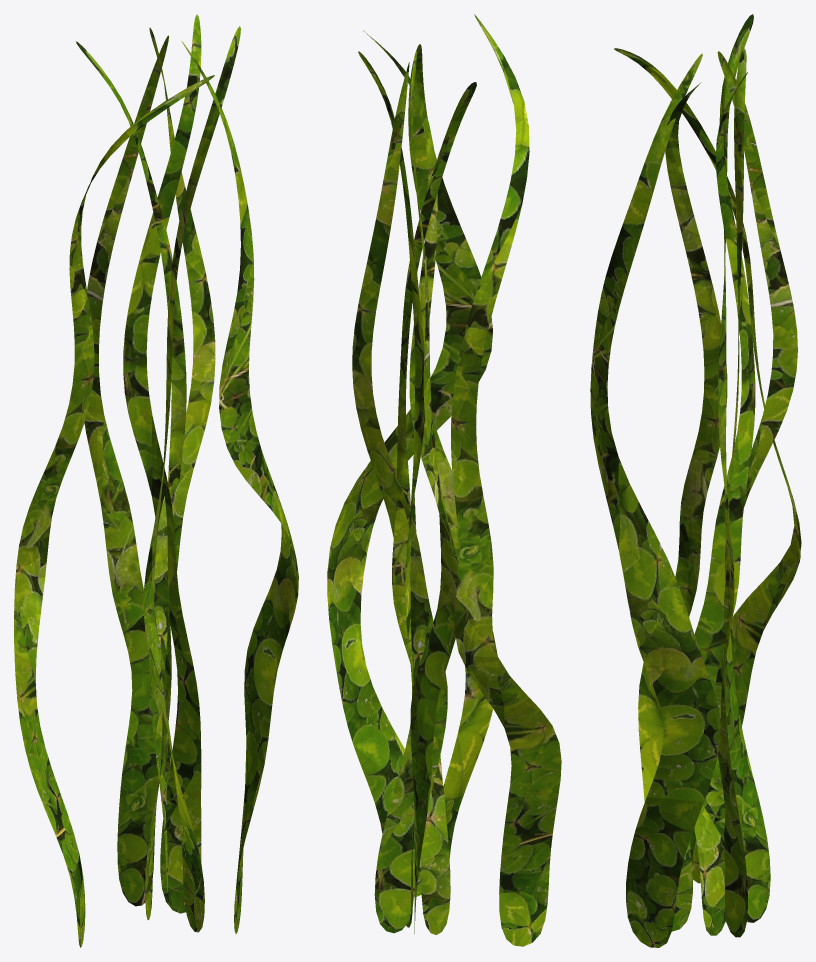
File: algae 3.glb
The picture shows the model from 3 angles, left to right: view 1: azimuth 30°, elevation 25°; view 2: azimuth 150°, elevation 25°; view 3: azimuth 270°, elevation 25°; orthographic projection.
Visible parts, largest first — view 1: algae3; view 2: algae3; view 3: algae3.
Part boxes in pixels (box(x1,y1,x2,y2)): algae3: box(14, 14, 298, 947); algae3: box(327, 14, 561, 946); algae3: box(590, 14, 801, 947).
Bounding box in the file's own units: 0.5614 × 1.93 × 0.4193.
Materials: 1 (1 with a texture image).
